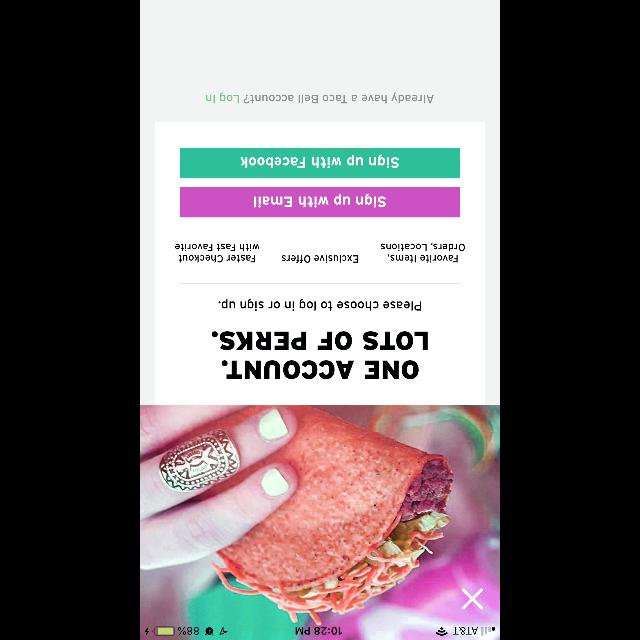icon: (462, 588, 482, 610)
image: (140, 405, 500, 639)
text: (212, 331, 428, 379), (206, 92, 434, 104), (218, 298, 422, 310), (381, 243, 465, 263), (175, 244, 259, 262), (282, 255, 358, 263)
textbutton: (180, 148, 460, 178), (180, 187, 460, 217)
uppertaskbar: (140, 626, 500, 640)
